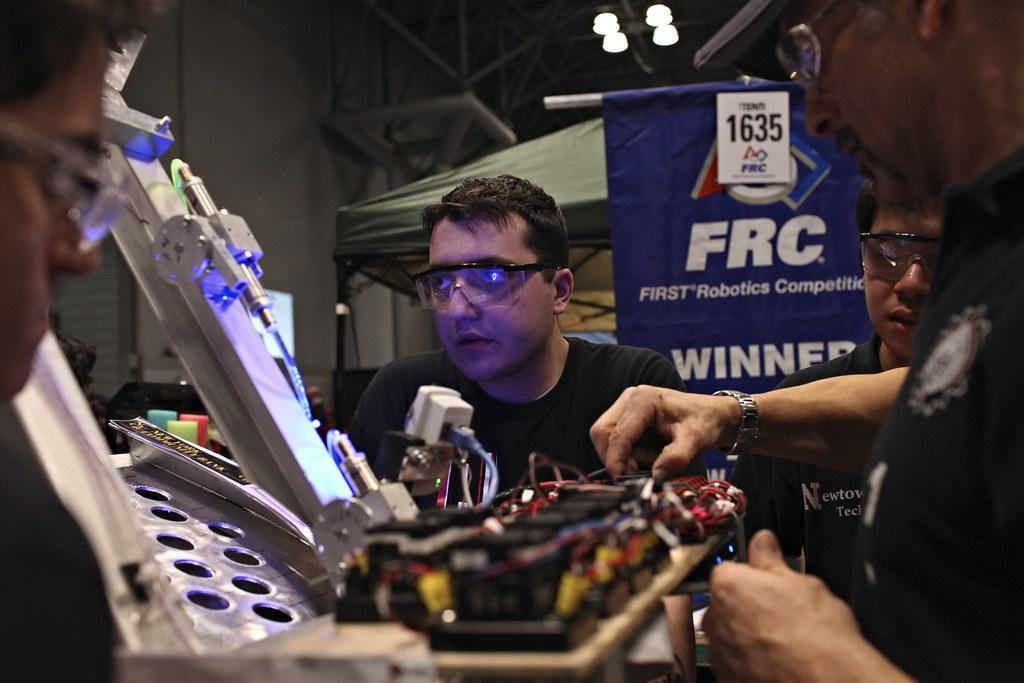robot: (25, 22, 747, 667)
